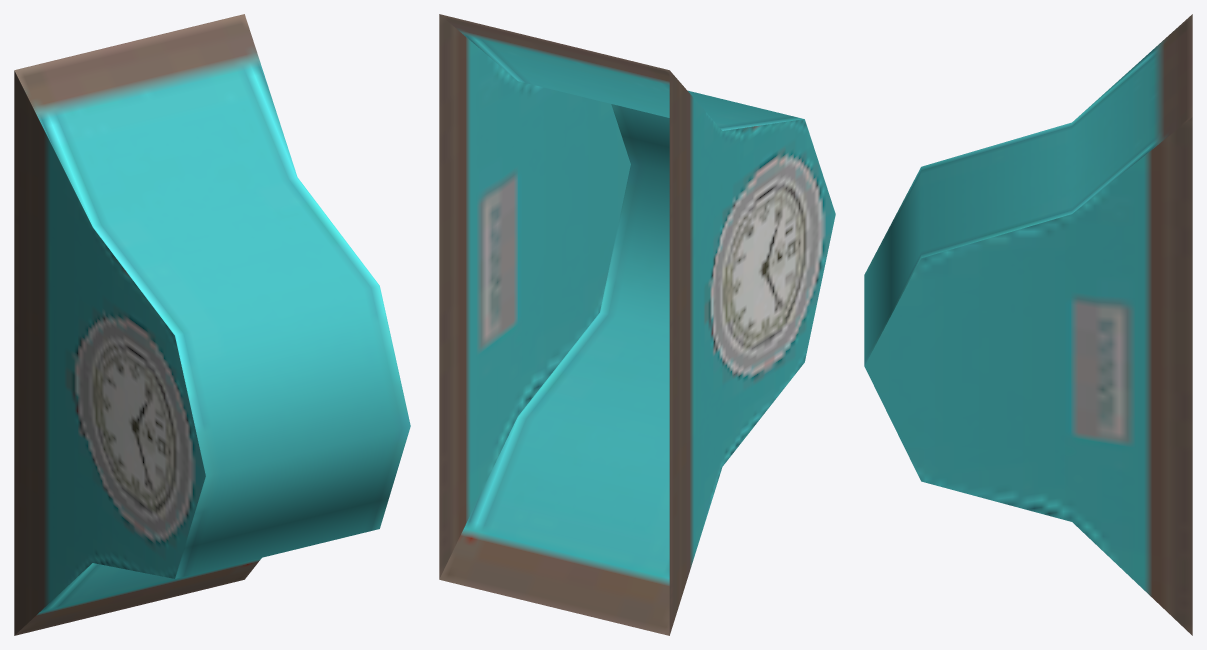
File: nt_2020_clock_table_LOD2.obj
3 renders of one model, left to right at view 1: azimuth 30°, elevation 25°; view 2: azimuth 150°, elevation 25°; view 3: azimuth 270°, elevation 25°, orthographic. The views are drawn at different scales.
Parts seen in each view (by area): view 1: mtl_nt_2020_clock_table; view 2: mtl_nt_2020_clock_table; view 3: mtl_nt_2020_clock_table.
Boxes of the visible parts, x1,y1,x2,y2 form: mtl_nt_2020_clock_table: [14, 14, 410, 635]; mtl_nt_2020_clock_table: [439, 14, 835, 635]; mtl_nt_2020_clock_table: [864, 14, 1192, 635].
Size of the model in its own units: 17.13 by 40.18 by 23.03.
